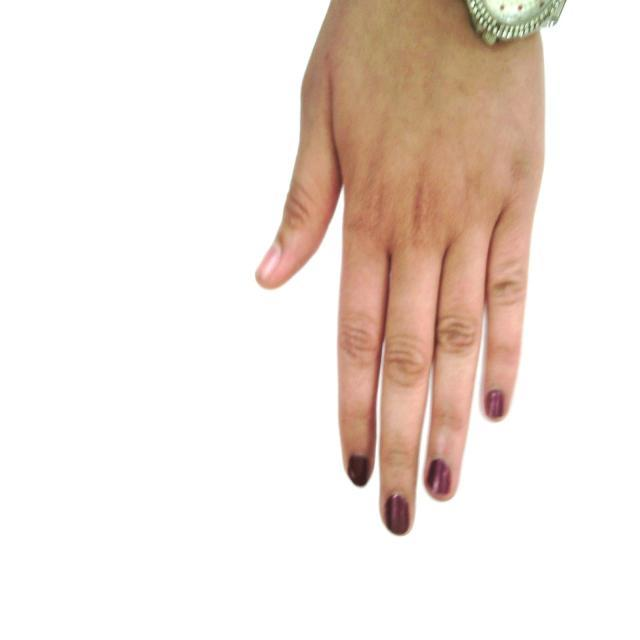Fingernail: (257, 241, 281, 278), (387, 495, 409, 535), (427, 460, 450, 496), (349, 457, 369, 487), (488, 391, 505, 418)
